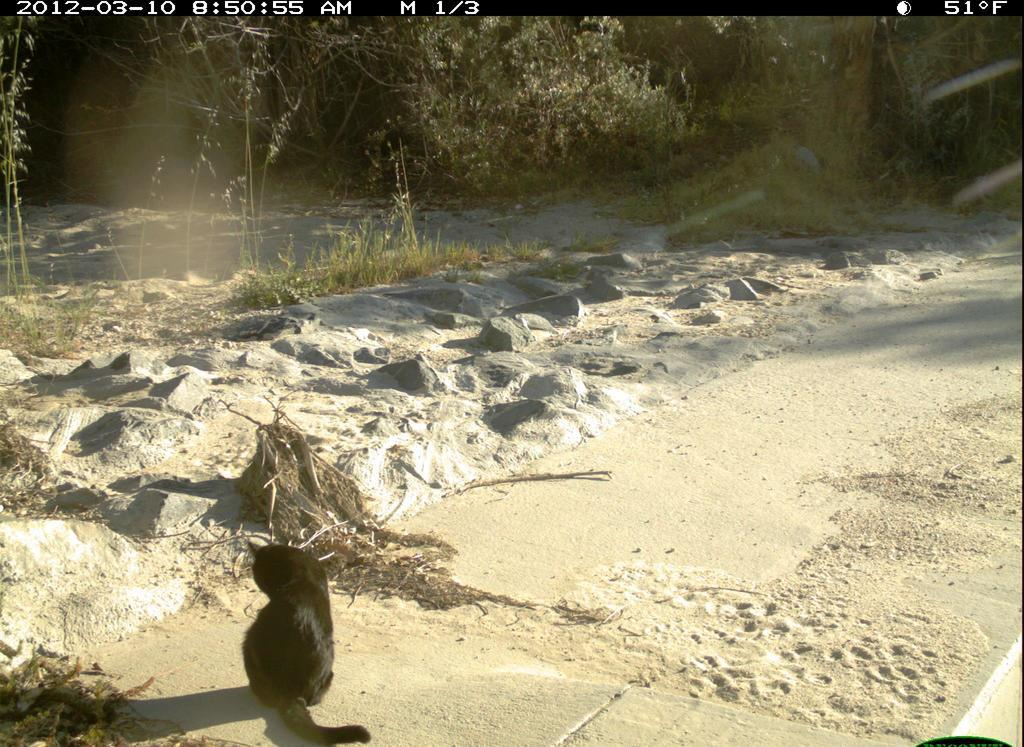cat: (233, 530, 379, 745)
